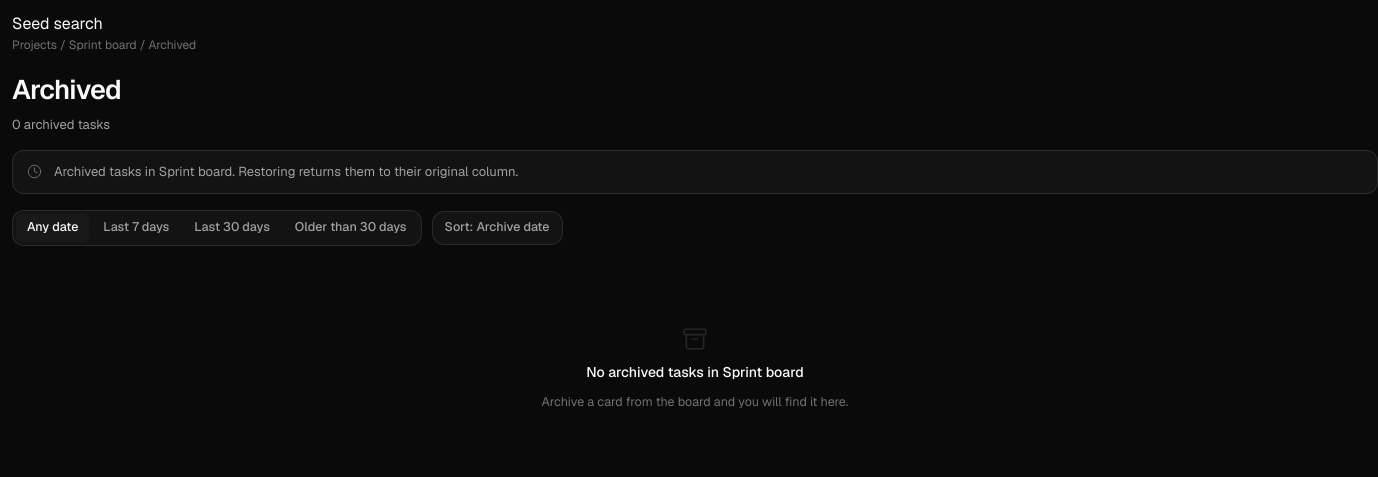
Test: ArchivedView › shows No results only after the current filter first page is empty
Click the button "Last 7 days" at (136, 228), box [92,214,180,242]
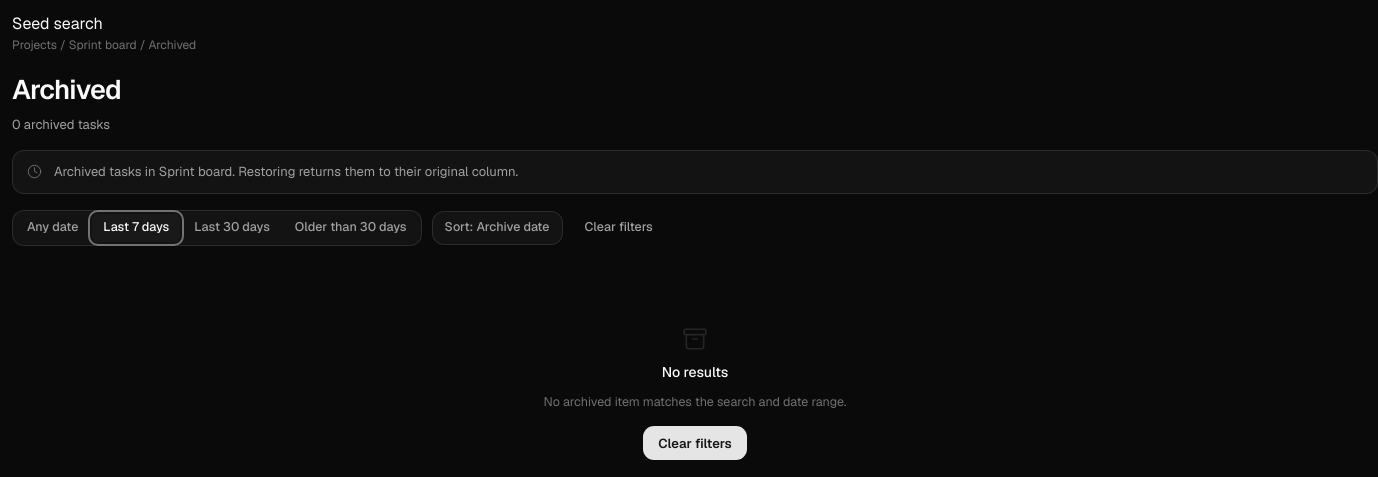
Check: the text "0 archived tasks" is shown, box [12,116,110,132]
Check: the text "No results" is shown, box [662,362,728,382]
Check: the text "No archived item matches the search and date range." is shown, box [544,392,846,411]
